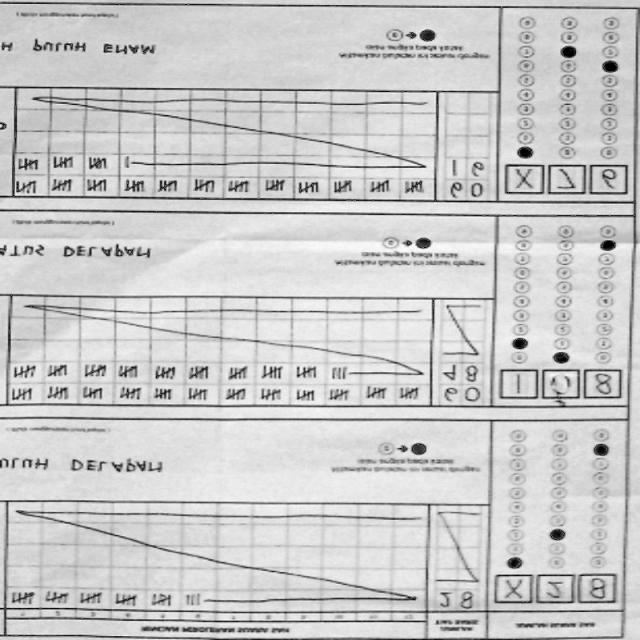Suara: (494, 364, 624, 405), (501, 164, 630, 202), (491, 572, 619, 610)
